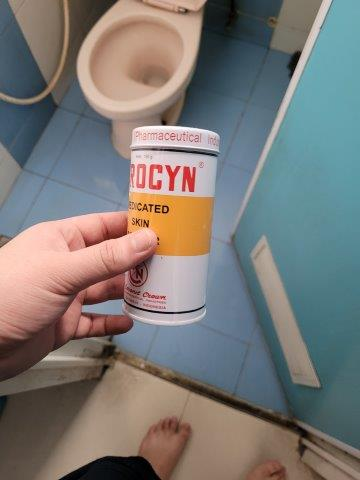kaleng: (125, 126, 214, 326)
